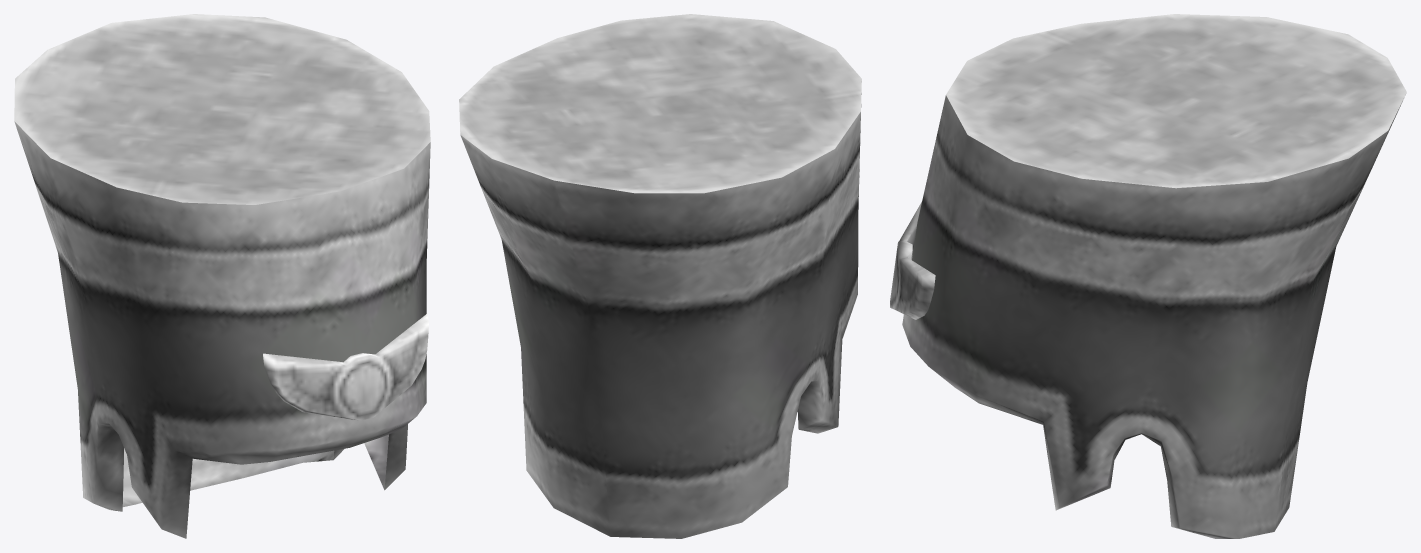
File: rider-helmet-slice-heavycamelriders.glb
3 views of the same model, side by side, from view 1: azimuth 30°, elevation 25°; view 2: azimuth 150°, elevation 25°; view 3: azimuth 270°, elevation 25° (orthographic). The views are drawn at different scales.
Size of the model in its own units: 0.2697 by 0.3051 by 0.3389.
1 material, 1 textured.
